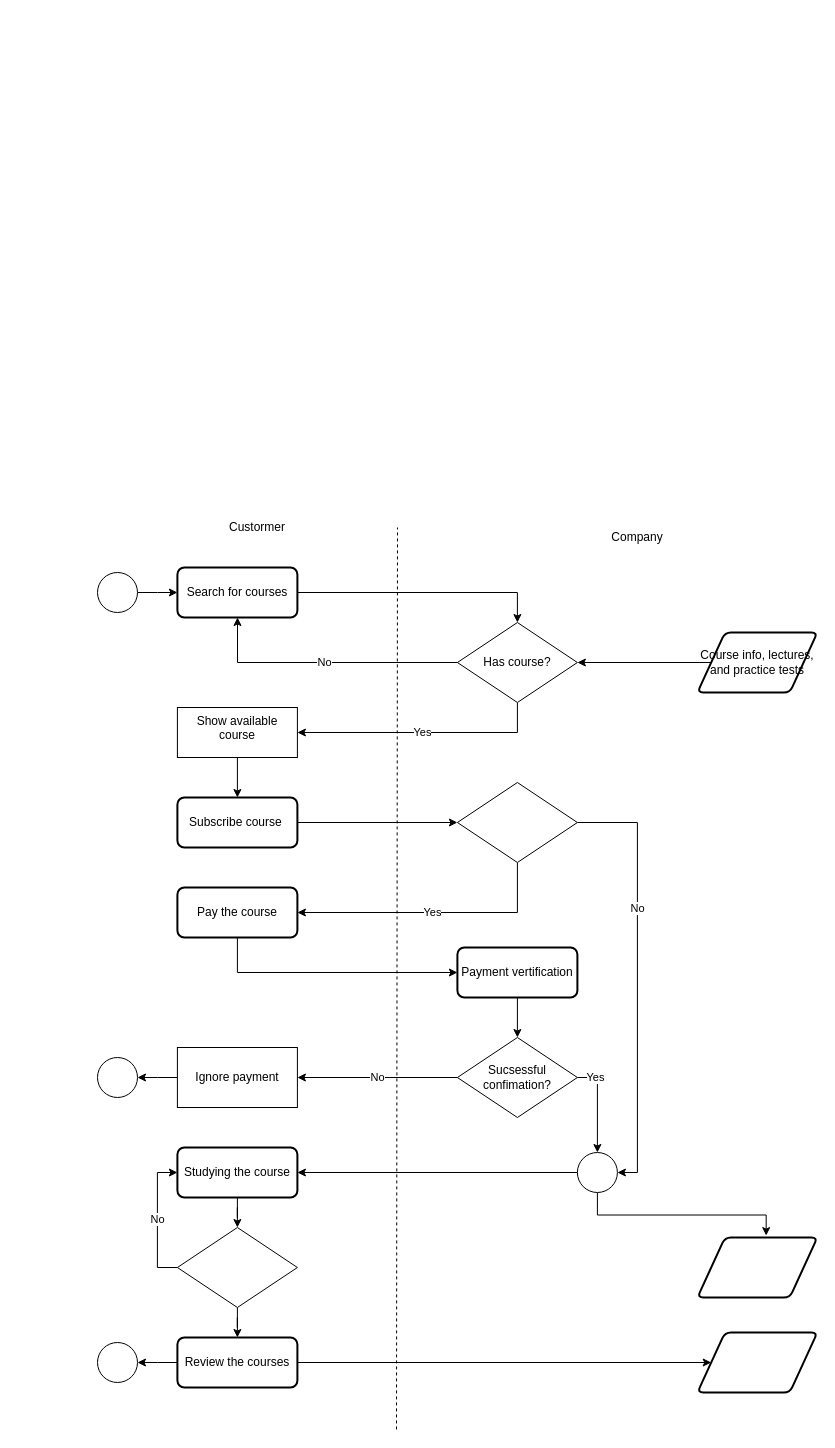
The diagram is 835 pixels wide and 1448 high, and some of its shapes have lost their labels. The box of each missing label's shape, as (x1, y1, x2, y2) in pixels:
End: (96, 1342, 138, 1382)
Is finished?: (176, 1226, 297, 1308)
Is paid?: (456, 782, 577, 862)
Number subscriber: (696, 1236, 818, 1298)
Rating data: (696, 1331, 818, 1393)
Start: (96, 572, 138, 612)
